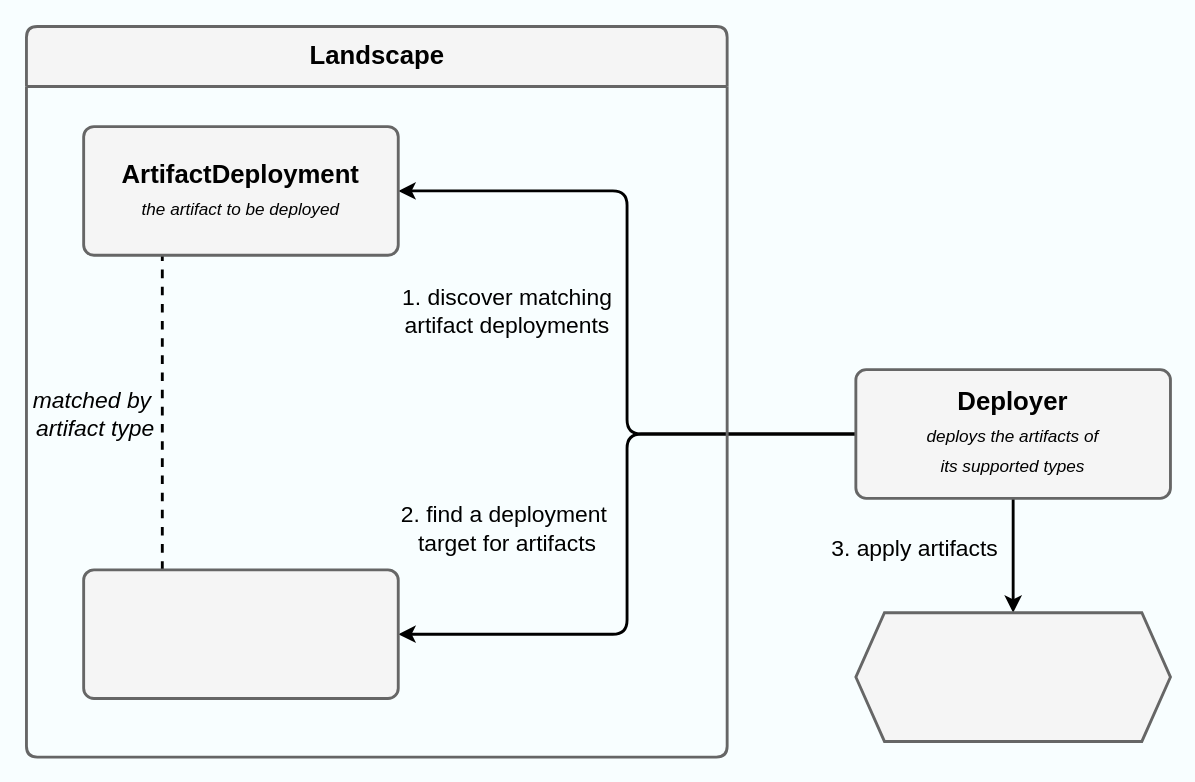
Image size: 1195x782. Some labels were removed from this diagram. The shapes that lost their labels are listed below. From the top down, each one's centre as x and y in pixels, then its label:
the point at 240,633: DeploymentTarget holds connection details to infrastructure
the point at 1012,676: Infrastructure where the artifact runs
